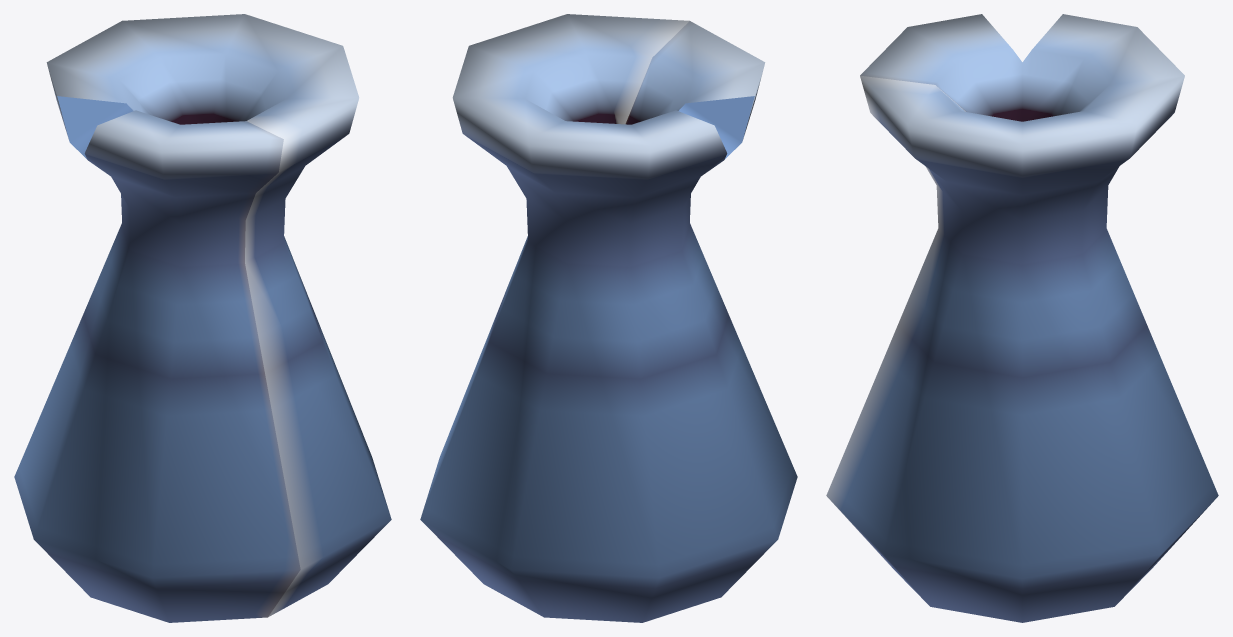
Rendered from bottle.fbx.
3 renders of one model, left to right at view 1: azimuth 30°, elevation 25°; view 2: azimuth 150°, elevation 25°; view 3: azimuth 270°, elevation 25°, orthographic.
Parts seen in each view (by area): view 1: itm_bottle; view 2: itm_bottle; view 3: itm_bottle.
Boxes of the visible parts, x1=… form: itm_bottle: x1=14, y1=14, x2=391, y2=622; itm_bottle: x1=420, y1=14, x2=797, y2=622; itm_bottle: x1=826, y1=14, x2=1218, y2=622.
Bounding box in the file's own units: 172 × 246 × 172.
Materials: 1 (1 with a texture image).
